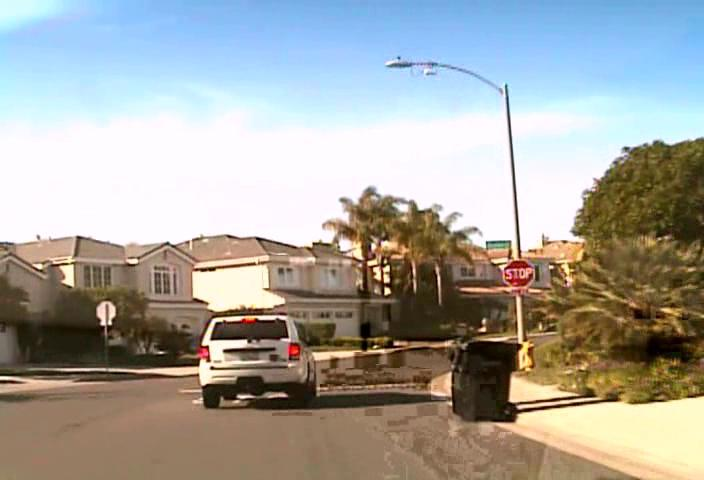stop: (502, 258, 534, 289)
